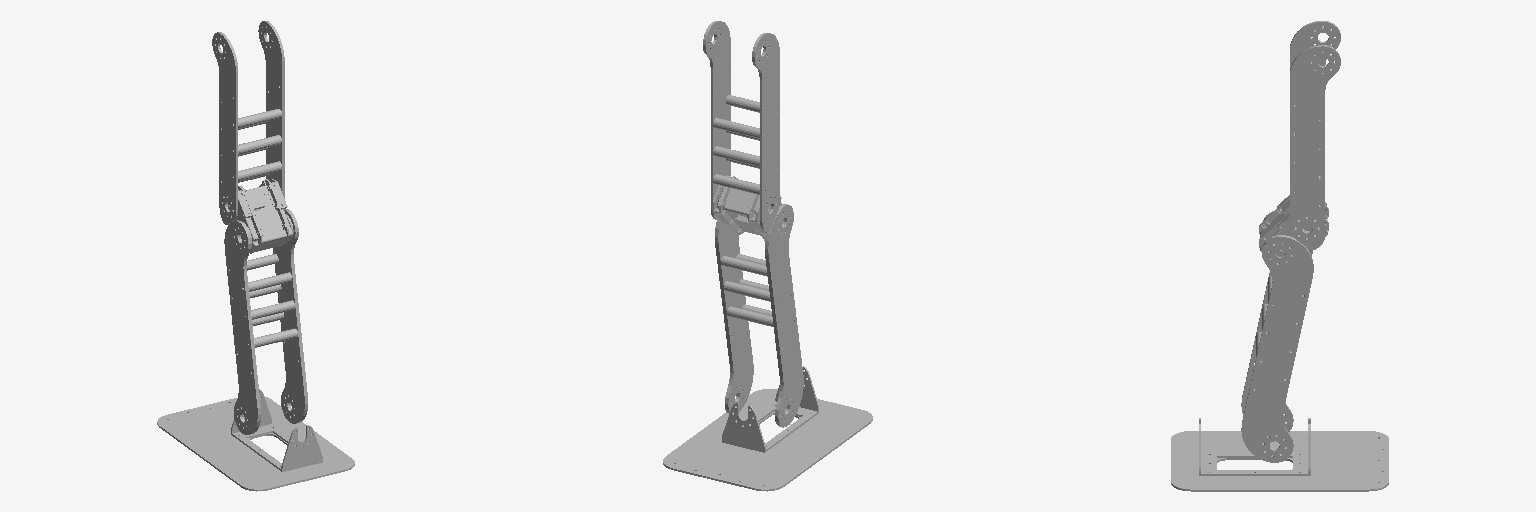
The robot description file, URDF, robot "SAKURA":
<?xml version="1.0"?>
<robot
  name="SAKURA">
    <link name="base_link">
      <origin
        xyz="0 0 0"
        rpy="0 0 0" />
  </link>
  <link
    name="LLEG0">
    <inertial>
      <origin
        xyz="1.38777878078145E-17 1.38777878078145E-17 0.012339611662812"
        rpy="0 0 0" />
      <mass
        value="0.137487098095279" />
      <inertia
        ixx="261013E-09"
        ixy="0"
        ixz="0"
        iyy="261013E-09"
        iyz="0"
        izz="52831E-09" />
    </inertial>
    <visual>
      <origin
        xyz="0 0 0"
        rpy="0 0 0" />
      <geometry>
        <mesh
          filename="package://sakura_pkg/meshes/LLEG0.STL" />
      </geometry>
      <material
        name="">
        <color
          rgba="0.650980392156863 0.619607843137255 0.588235294117647 1" />
      </material>
    </visual>
    <collision>
      <origin
        xyz="0 0 0"
        rpy="0 0 0" />
      <geometry>
        <mesh
          filename="package://sakura_pkg/meshes/LLEG0.STL" />
      </geometry>
    </collision>
  </link>
  <joint
    name="J_LLEG0"
    type="fixed">
    <origin
	  xyz="0 0 0.475"
      rpy="-3.14159265358979 1.21430643318376E-16 -1.5707963267949" />
    <parent
      link="base_link" />
    <child
      link="LLEG0" />
  </joint>
  <link
    name="LLEG1">
    <inertial>
      <origin
        xyz="-4.90216563097182E-05 -0.014933566350856 -0.0542307430726147"
        rpy="0 0 0" />
      <mass
        value="0.484317524341268" />
      <inertia
        ixx="0.000258532465487086"
        ixy="-1.08430216395215E-08"
        ixz="-4.93107012410751E-07"
        iyy="0.000256538006237082"
        iyz="8.86337248194806E-06"
        izz="4.00980160512074E-06" />
    </inertial>
    <visual>
      <origin
        xyz="0 0 0"
        rpy="0 0 0" />
      <geometry>
        <mesh
          filename="package://sakura_pkg/meshes/LLEG1.STL" />
      </geometry>
      <material
        name="">
        <color
          rgba="0.752941176470588 0.752941176470588 0.752941176470588 1" />
      </material>
    </visual>
    <collision>
      <origin
        xyz="0 0 0"
        rpy="0 0 0" />
      <geometry>
        <mesh
          filename="package://sakura_pkg/meshes/LLEG1.STL" />
      </geometry>
    </collision>
  </link>
  <joint
    name="J_LLEG1"
    type="continuous">
    <origin
      xyz="0.056 0 0.036"
      rpy="-1.5707963267949 -1.22338662637834E-16 -1.5707963267949" />
    <parent
      link="LLEG0" />
    <child
      link="LLEG1" />
    <axis
      xyz="0 0 1" />
  </joint>
  <link
    name="LLEG2">
    <inertial>
      <origin
        xyz="0.0896135033902749 -0.121669815792639 -0.0285739776731877"
        rpy="0 0 0" />
      <mass
        value="0.429581814867276" />
      <inertia
        ixx="0.000739443276879588"
        ixy="0.000469298592224479"
        ixz="-4.17657698668898E-06"
        iyy="0.00045781924000273"
        iyz="4.49877955818474E-06"
        izz="0.00100793675092908" />
    </inertial>
    <visual>
      <origin
        xyz="0 0 0"
        rpy="0 0 0" />
      <geometry>
        <mesh
          filename="package://sakura_pkg/meshes/LLEG2.STL" />
      </geometry>
      <material
        name="">
        <color
          rgba="0.752941176470588 0.752941176470588 0.752941176470588 1" />
      </material>
    </visual>
    <collision>
      <origin
        xyz="0 0 0"
        rpy="0 0 0" />
      <geometry>
        <mesh
          filename="package://sakura_pkg/meshes/LLEG2.STL" />
      </geometry>
    </collision>
  </link>
  <joint
    name="J_LLEG2"
    type="continuous">
    <origin
      xyz="0.0289999999999999 0 -0.0750000000000234"
      rpy="-1.5707963267949 0.78539816339745 -1.5707963267949" />
    <parent
      link="LLEG1" />
    <child
      link="LLEG2" />
    <axis
      xyz="0 0 -1" />
  </joint>
  <link
    name="LLEG3">
    <inertial>
      <origin
        xyz="0.0938607247050214 0.021121469241447 -0.0266864244548486"
        rpy="0 0 0" />
      <mass
        value="0.253457988874213" />
      <inertia
        ixx="0.000157893827081503"
        ixy="4.33507693026071E-06"
        ixz="2.38137513758817E-06"
        iyy="0.000215254509125973"
        iyz="4.49605098935315E-06"
        izz="7.90936329999813E-05" />
    </inertial>
    <visual>
      <origin
        xyz="0 0 0"
        rpy="0 0 0" />
      <geometry>
        <mesh
          filename="package://sakura_pkg/meshes/LLEG3.STL" />
      </geometry>
      <material
        name="">
        <color
          rgba="0.752941176470588 0.752941176470588 0.752941176470588 1" />
      </material>
    </visual>
    <collision>
      <origin
        xyz="0 0 0"
        rpy="0 0 0" />
      <geometry>
        <mesh
          filename="package://sakura_pkg/meshes/LLEG3.STL" />
      </geometry>
    </collision>
  </link>
  <joint
    name="J_LLEG3"
    type="continuous">
    <origin
      xyz="0.112429978208667 -0.169643181644254 0.00160000000000024"
      rpy="-0.0320557226319531 0.0283578707512148 -1.01721646459287" />
    <parent
      link="LLEG2" />
    <child
      link="LLEG3" />
    <axis
      xyz="0.0283540701513945 0.0320373469653184 -0.999084408398647" />
  </joint>
  <link
    name="LLEG4">
    <inertial>
      <origin
        xyz="0.0207692569273853 -0.0149335663508559 -0.0309509783436903"
        rpy="0 0 0" />
      <mass
        value="0.484317524341267" />
      <inertia
        ixx="4.00980160512071E-06"
        ixy="8.86337248194725E-06"
        ixz="4.93107012410836E-07"
        iyy="0.000256538006237082"
        iyz="1.08430216395228E-08"
        izz="0.000258532465487085" />
    </inertial>
    <visual>
      <origin
        xyz="0 0 0"
        rpy="0 0 0" />
      <geometry>
        <mesh
          filename="package://sakura_pkg/meshes/LLEG4.STL" />
      </geometry>
      <material
        name="">
        <color
          rgba="0.752941176470588 0.752941176470588 0.752941176470588 1" />
      </material>
    </visual>
    <collision>
      <origin
        xyz="0 0 0"
        rpy="0 0 0" />
      <geometry>
        <mesh
          filename="package://sakura_pkg/meshes/LLEG4.STL" />
      </geometry>
    </collision>
  </link>
  <joint
    name="J_LLEG4"
    type="continuous">
    <origin
      xyz="0.19759 0.040682 0.007913"
      rpy="0.034963 0.024684 -1.339" />
    <parent
      link="LLEG3" />
    <child
      link="LLEG4" />
    <axis
      xyz="0 0 1" />
    <limit
      effort="0"
      velocity="0" />
  </joint>
  <link
    name="LFOOT">
    <inertial>
      <origin
        xyz="-0.00984398078216434 0.033081446163245 0.0742424926896279"
        rpy="0 0 0" />
      <mass
        value="0.474832547151362" />
      <inertia
        ixx="5.51319710395952E-05"
        ixy="8.95545085142721E-06"
        ixz="2.1883900378474E-05"
        iyy="5.73648543375659E-05"
        iyz="-1.93251189181957E-05"
        izz="1.80495475741546E-05" />
    </inertial>
    <visual>
      <origin
        xyz="0 0 0"
        rpy="0 0 0" />
      <geometry>
        <mesh
          filename="package://sakura_pkg/meshes/LFOOT.STL" />
      </geometry>
      <material
        name="">
        <color
          rgba="0.752941176470588 0.752941176470588 0.752941176470588 1" />
      </material>
    </visual>
    <collision>
      <origin
        xyz="0 0 0"
        rpy="0 0 0" />
      <geometry>
        <mesh
          filename="package://sakura_pkg/meshes/LFOOT.STL" />
      </geometry>
    </collision>
  </link>
  <joint
    name="J_LFOOT"
    type="continuous">
    <origin
      xyz="0.072 0 -0.031"
      rpy="0 -1.5708 0" />
    <parent
      link="LLEG4" />
    <child
      link="LFOOT" />
    <axis
      xyz="0 0 1" />
    <limit
      effort="0"
      velocity="0" />
  </joint>

</robot>

--- Render facts (derived) ---
3 views of the same robot in one strip: view 1: azimuth 30°, elevation 25°; view 2: azimuth 150°, elevation 25°; view 3: azimuth 270°, elevation 25° (orthographic).
Robot: SAKURA — 7 links, 6 joints (5 continuous, 1 fixed); root link base_link; default pose: all joints at 0.
Visible links, largest first — view 1: LLEG2, LLEG3, LFOOT; view 2: LFOOT, LLEG2, LLEG3; view 3: LFOOT, LLEG3, LLEG2.
Boxes of the visible links, left/top/right/bottom form: LLEG2: left=212, top=21, right=293, bottom=253; LLEG3: left=224, top=209, right=307, bottom=434; LFOOT: left=157, top=389, right=354, bottom=491; LFOOT: left=663, top=366, right=872, bottom=491; LLEG2: left=703, top=21, right=783, bottom=240; LLEG3: left=715, top=204, right=803, bottom=427; LFOOT: left=1171, top=418, right=1388, bottom=491; LLEG3: left=1241, top=211, right=1313, bottom=462; LLEG2: left=1259, top=21, right=1340, bottom=261.
Size in the robot's own frame: 0.132 by 0.208 by 0.4543 metres.
Meshes: 6 distinct files referenced, 3 mesh visuals loaded (3 binary STL); not drawn: 3 (reference not matched to a file when rendering).
